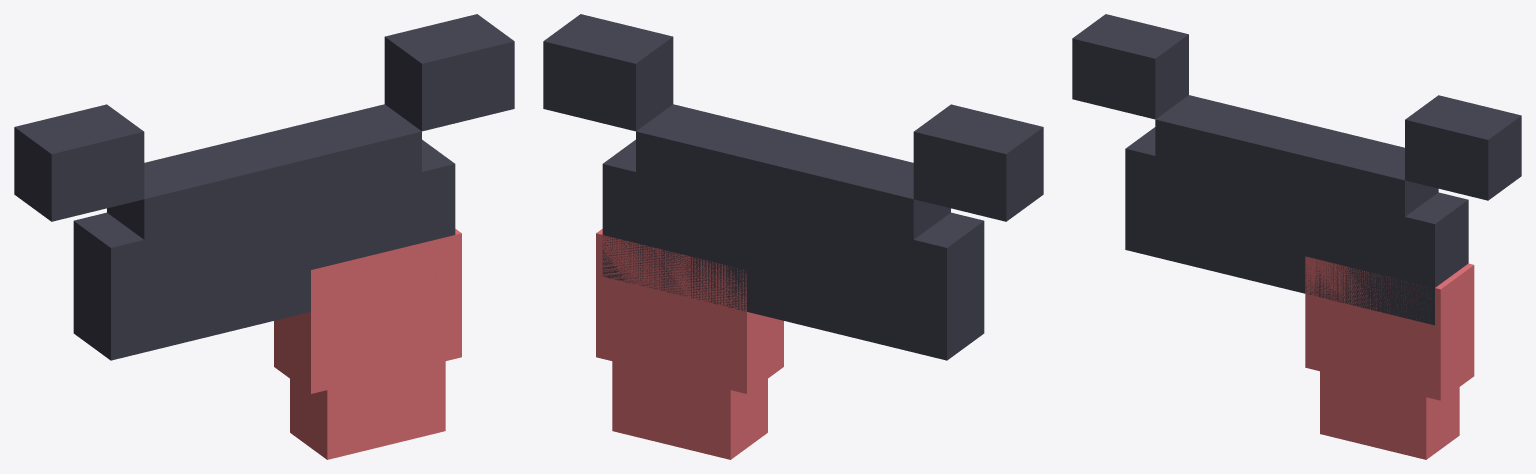
File: tirando_lingua.glb
3 renders of one model, left to right at view 1: azimuth 30°, elevation 25°; view 2: azimuth 150°, elevation 25°; view 3: azimuth 330°, elevation 25°, orthographic. The views are drawn at different scales.
Visible parts, largest first — view 1: tirando_lingua; view 2: tirando_lingua; view 3: tirando_lingua.
Boxes of the visible parts, x1,y1,x2,y2 form: tirando_lingua: (14,14,514,459); tirando_lingua: (543,14,1043,459); tirando_lingua: (1072,14,1521,459).
Size of the model in its own units: 0.215 by 0.1655 by 0.03.
